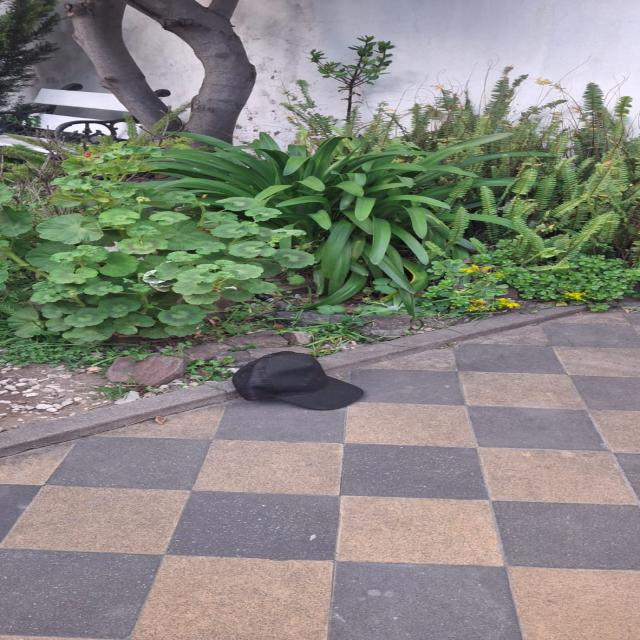Gorra: (230, 348, 374, 414)
